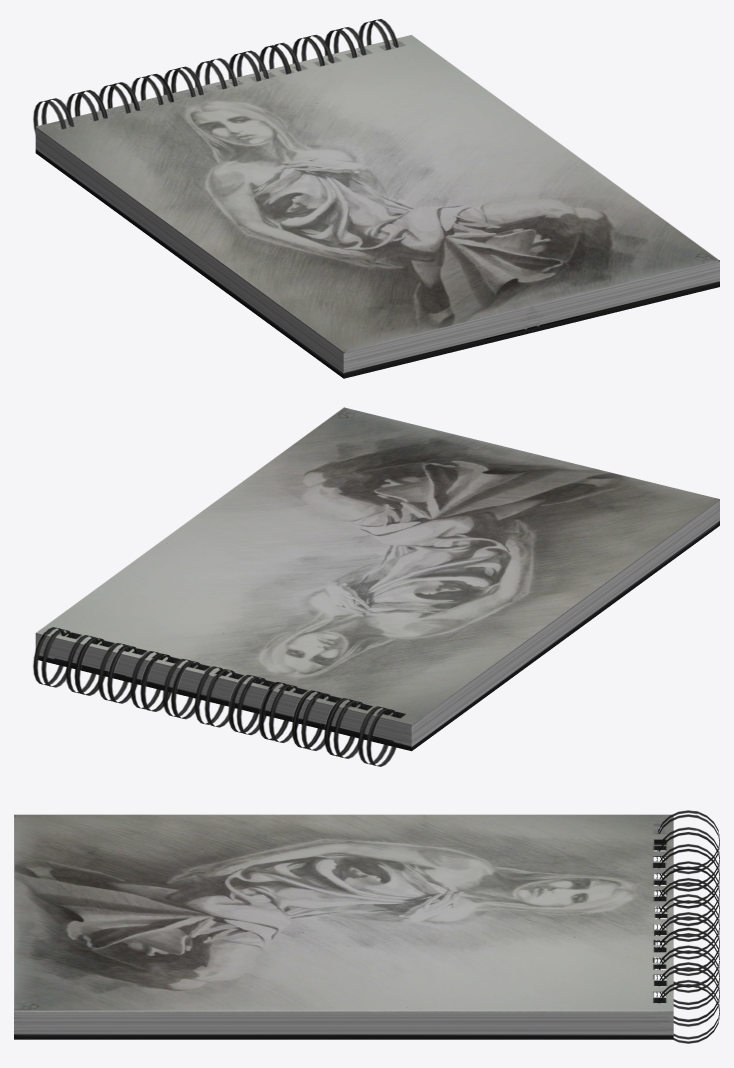
The model's file is sketchbook.glb.
The picture shows the model from 3 angles, top to bottom: view 1: azimuth 30°, elevation 25°; view 2: azimuth 150°, elevation 25°; view 3: azimuth 270°, elevation 25°; orthographic projection. The views are drawn at different scales.
Visible parts, largest first — view 1: BlockNotes1, Rings1; view 2: BlockNotes1, Rings1; view 3: BlockNotes1, Rings1.
Boxes of the visible parts, left/top/right/bottom form: BlockNotes1: left=35, top=35, right=719, bottom=378; Rings1: left=33, top=19, right=398, bottom=133; BlockNotes1: left=35, top=407, right=719, bottom=751; Rings1: left=33, top=627, right=398, bottom=766; BlockNotes1: left=14, top=814, right=673, bottom=1039; Rings1: left=656, top=810, right=719, bottom=1043.
Bounding box in the file's own units: 0.0291 × 0.00396 × 0.0442.
2 materials, 2 textured.
